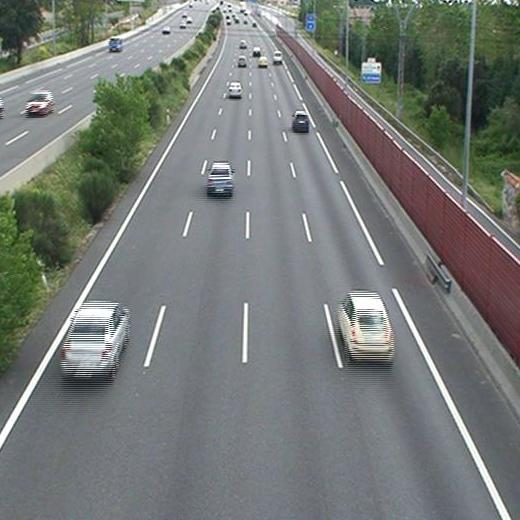car: (59, 304, 129, 376), (339, 293, 393, 359), (207, 163, 233, 193), (292, 112, 310, 129), (229, 82, 242, 95), (273, 50, 282, 63), (258, 56, 268, 66), (237, 56, 247, 66), (251, 46, 261, 55), (238, 40, 246, 48)
